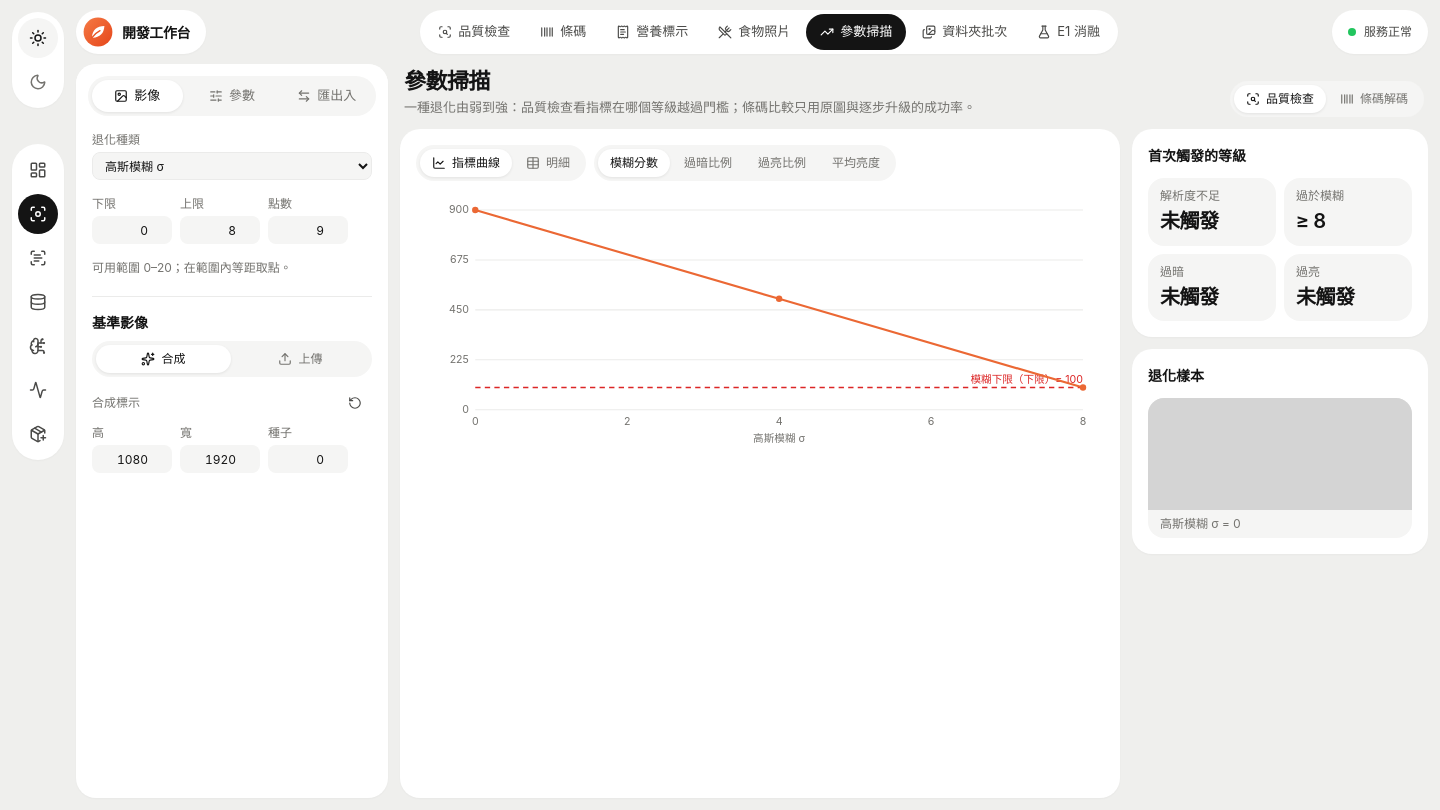
Test: 參數掃描頁 › 下限不小於上限時顯示中文錯誤且不送出請求
Expected: the text "≥ 8" is shown, [1296, 209, 1326, 233]
Replace the text in the number field named "範圍下限" with "10". click: (132, 230)
box: [92, 216, 172, 244]
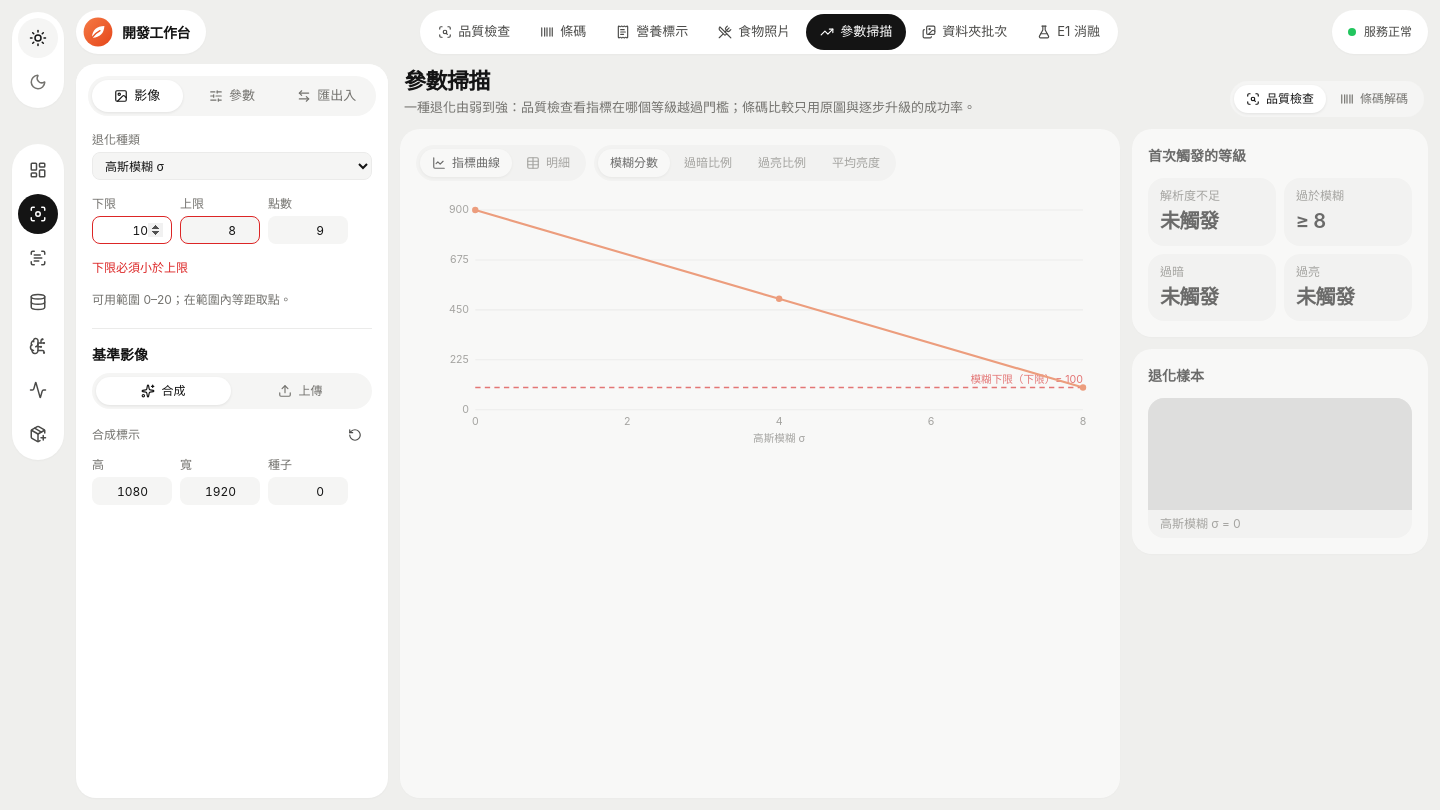
Now the message "下限必須小於上限" is shown, box [92, 260, 188, 275]
Note: 改回合法範圍後錯誤消失並重新送出
Replace the text in the number field named "範圍下限" with "1". click: (132, 230)
box: [92, 216, 172, 244]
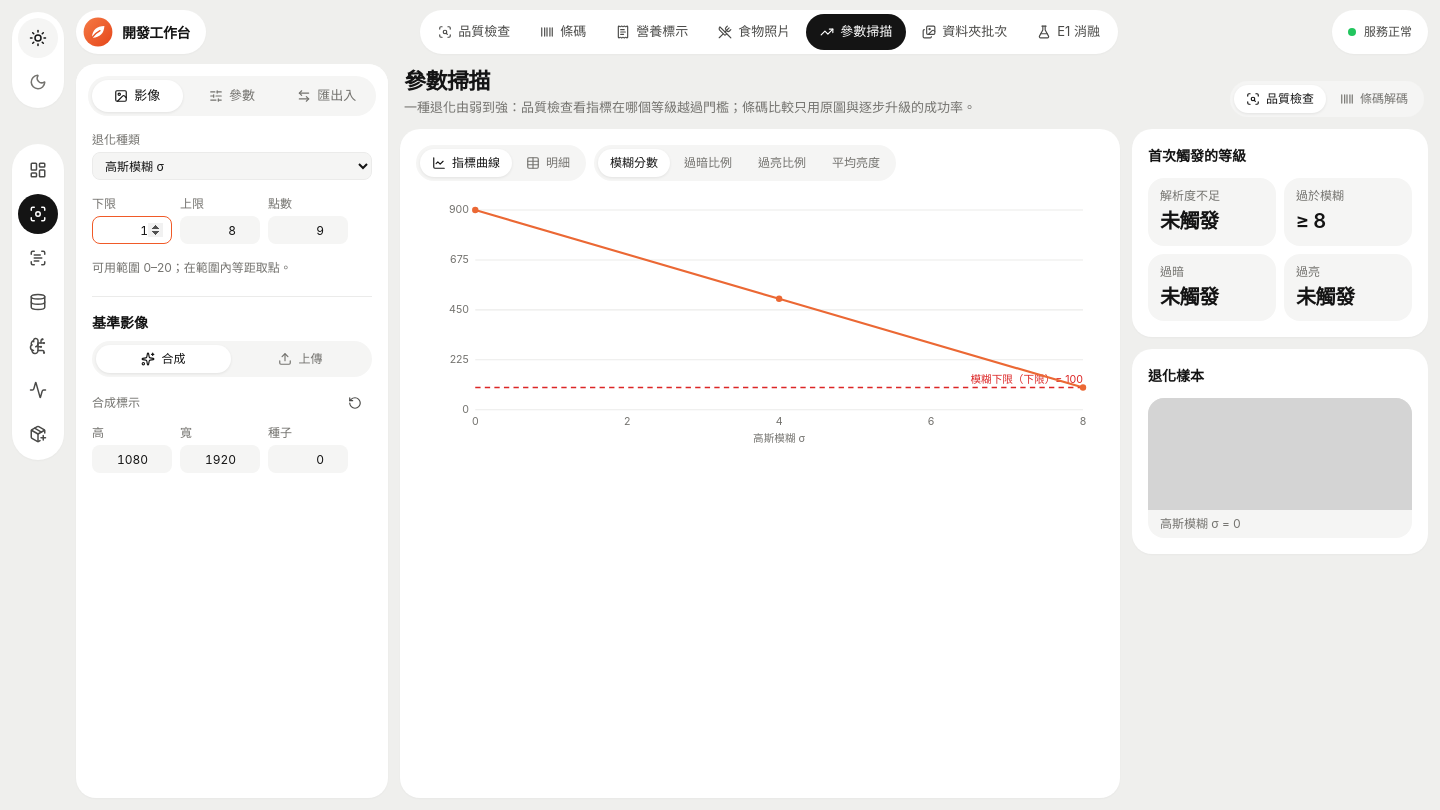
Now the message "下限必須小於上限" is gone
